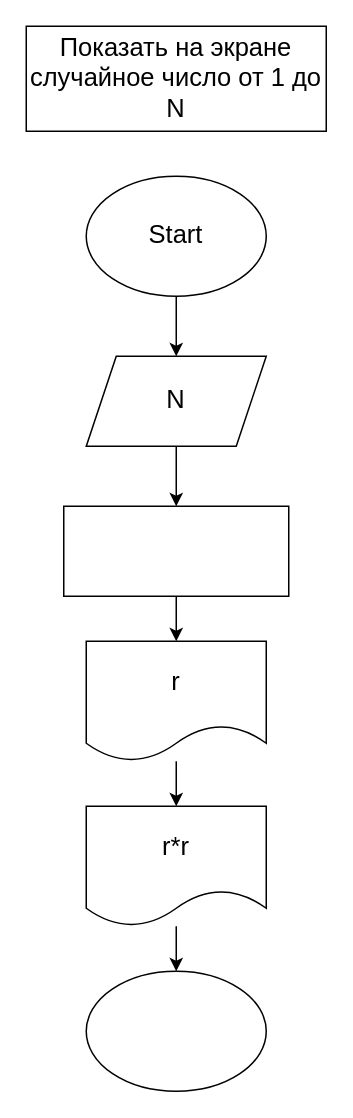
This 353x1118 diagram has some shape labels left out. Here are the shapes that lost their labels. From the top down, the centre of each, then its label:
pixel 175 550: r = random(1,N)
pixel 175 1030: End
